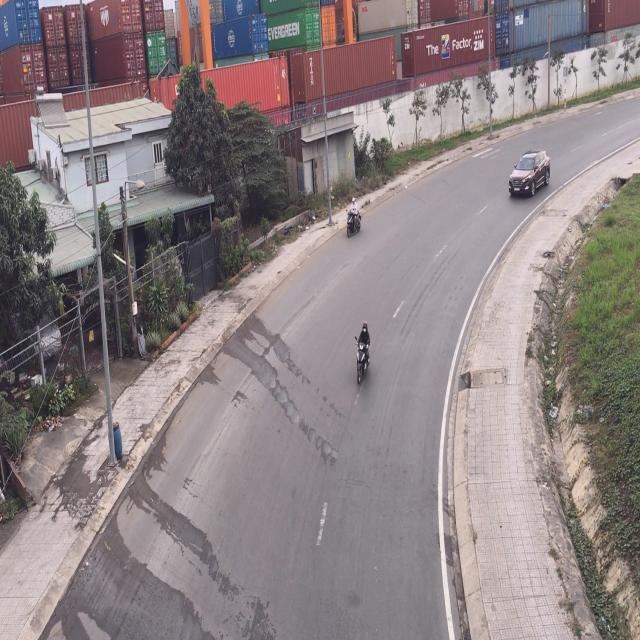car: (506, 150, 549, 198)
motorbike: (354, 322, 372, 389), (345, 196, 362, 241)
